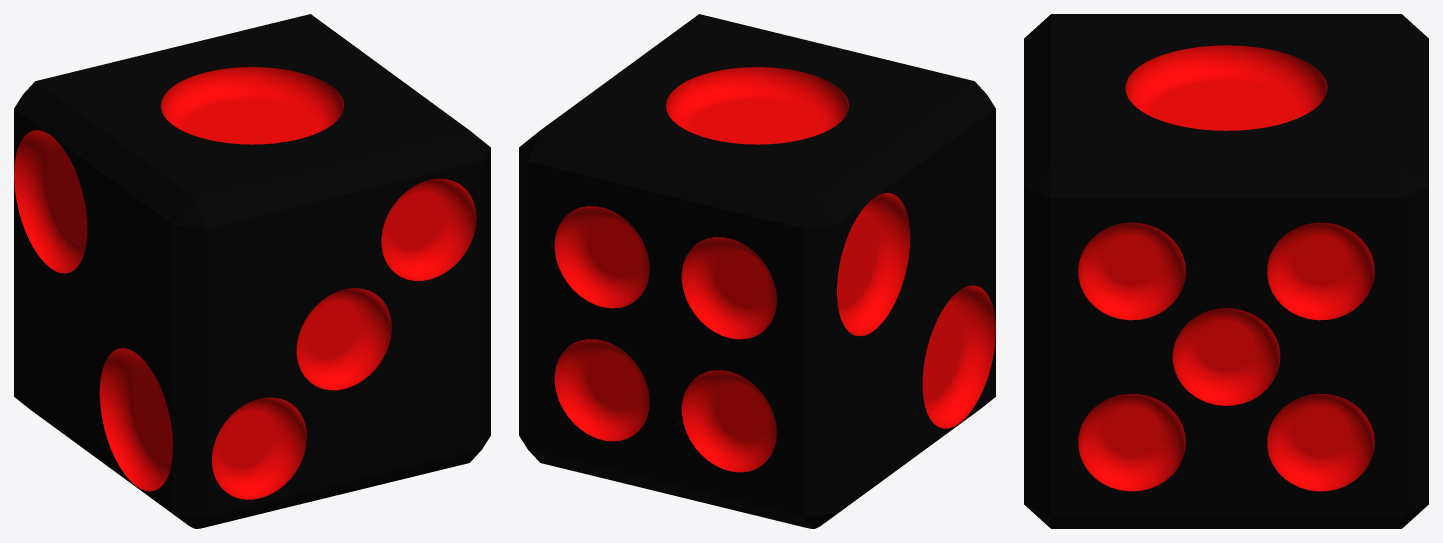
3 renders of one model, left to right at view 1: azimuth 30°, elevation 25°; view 2: azimuth 150°, elevation 25°; view 3: azimuth 270°, elevation 25°, orthographic. The views are drawn at different scales.
Visible parts, largest first — view 1: Part1; view 2: Part1; view 3: Part1.
Boxes of the visible parts, x1,y1,x2,y2 form: Part1: (14,14,490,528); Part1: (519,14,995,528); Part1: (1024,14,1428,528).
Size of the model in its own units: 0.03 by 0.03 by 0.03.
